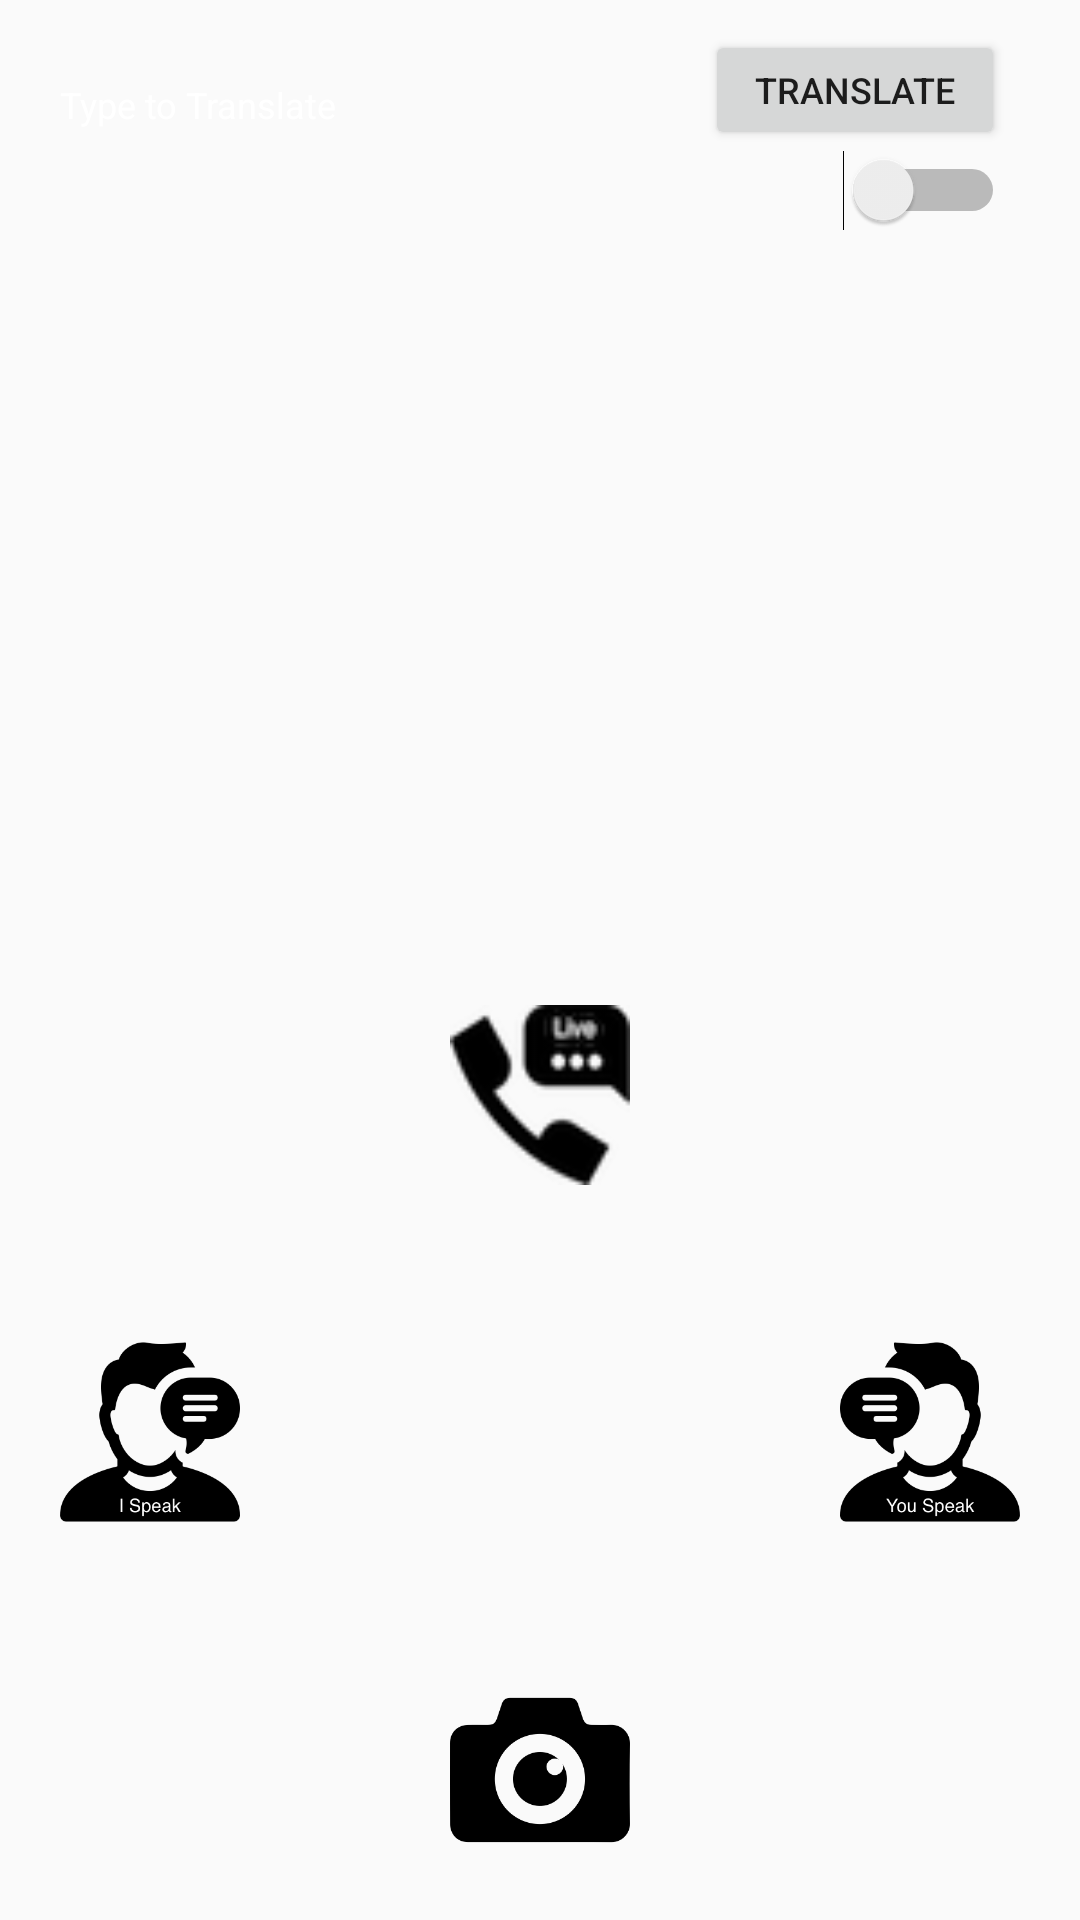

Icon click points for this 1080px x 1920px phone screenshot, format (x=x, y=y):
camera: (x=540, y=1770)
